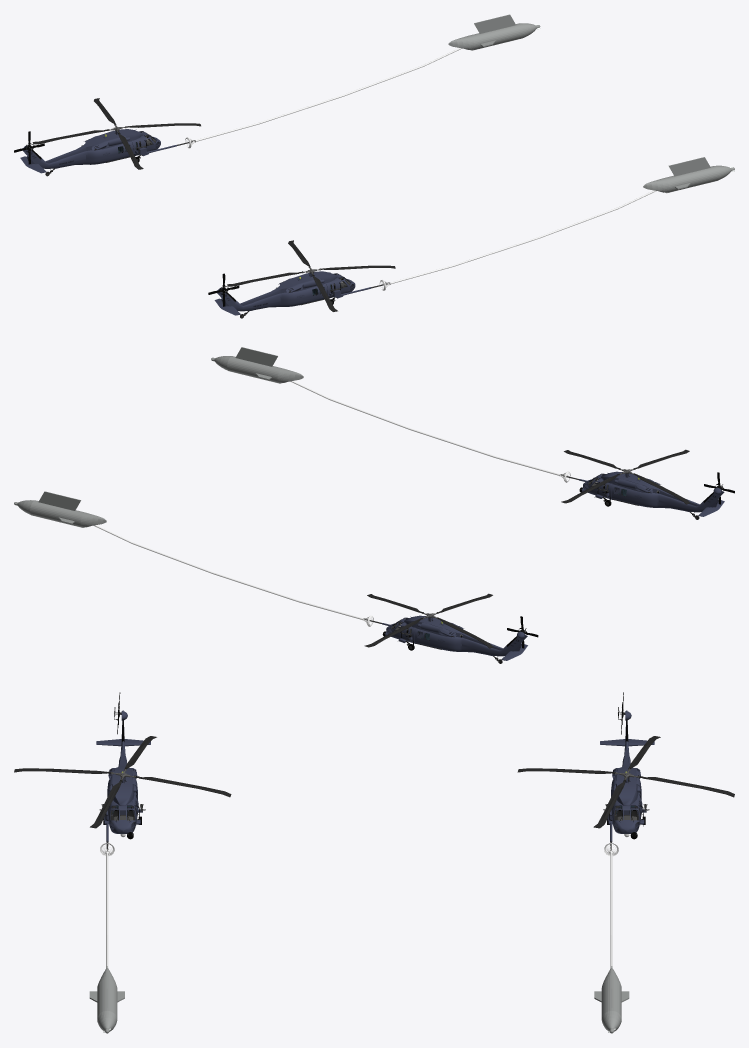
3 renders of one model, top to bottom at view 1: azimuth 30°, elevation 25°; view 2: azimuth 150°, elevation 25°; view 3: azimuth 270°, elevation 25°, orthographic. The views are drawn at different scales.
Parts seen in each view (by area): view 1: Sphere.002, Sphere.001, 立方体.003, 立方体.004, Circle.002, Circle.005, 立方体.001, 立方体.005; view 2: Sphere.002, Sphere.001, 立方体.004, 立方体.003, Circle.005, Circle.002, 立方体.005, 立方体.001; view 3: Sphere.002, Sphere.001, Circle.005, Circle.002, 立方体.003, 立方体.004.
Boxes of the visible parts, <box> form: Sphere.002: <box>214,271,371,318</box>; Sphere.001: <box>20,129,176,176</box>; 立方体.003: <box>643,157,734,193</box>; 立方体.004: <box>448,14,540,50</box>; Circle.002: <box>227,240,395,311</box>; Circle.005: <box>32,98,200,169</box>; 立方体.001: <box>379,190,656,290</box>; 立方体.005: <box>185,48,461,148</box>; Sphere.002: <box>578,471,724,519</box>; Sphere.001: <box>382,615,527,663</box>; 立方体.004: <box>14,491,106,527</box>; 立方体.003: <box>211,347,303,383</box>; Circle.005: <box>364,593,493,648</box>; Circle.002: <box>561,449,690,504</box>; 立方体.005: <box>94,525,373,626</box>; 立方体.001: <box>290,381,570,482</box>; Sphere.002: <box>96,710,150,841</box>; Sphere.001: <box>600,710,654,841</box>; Circle.005: <box>517,736,734,828</box>; Circle.002: <box>14,736,231,828</box>; 立方体.003: <box>89,966,124,1033</box>; 立方体.004: <box>594,966,629,1033</box>.
Bounding box in the file's own units: 52.86 × 5.45 × 48.81.
55 materials, 4 textured.
